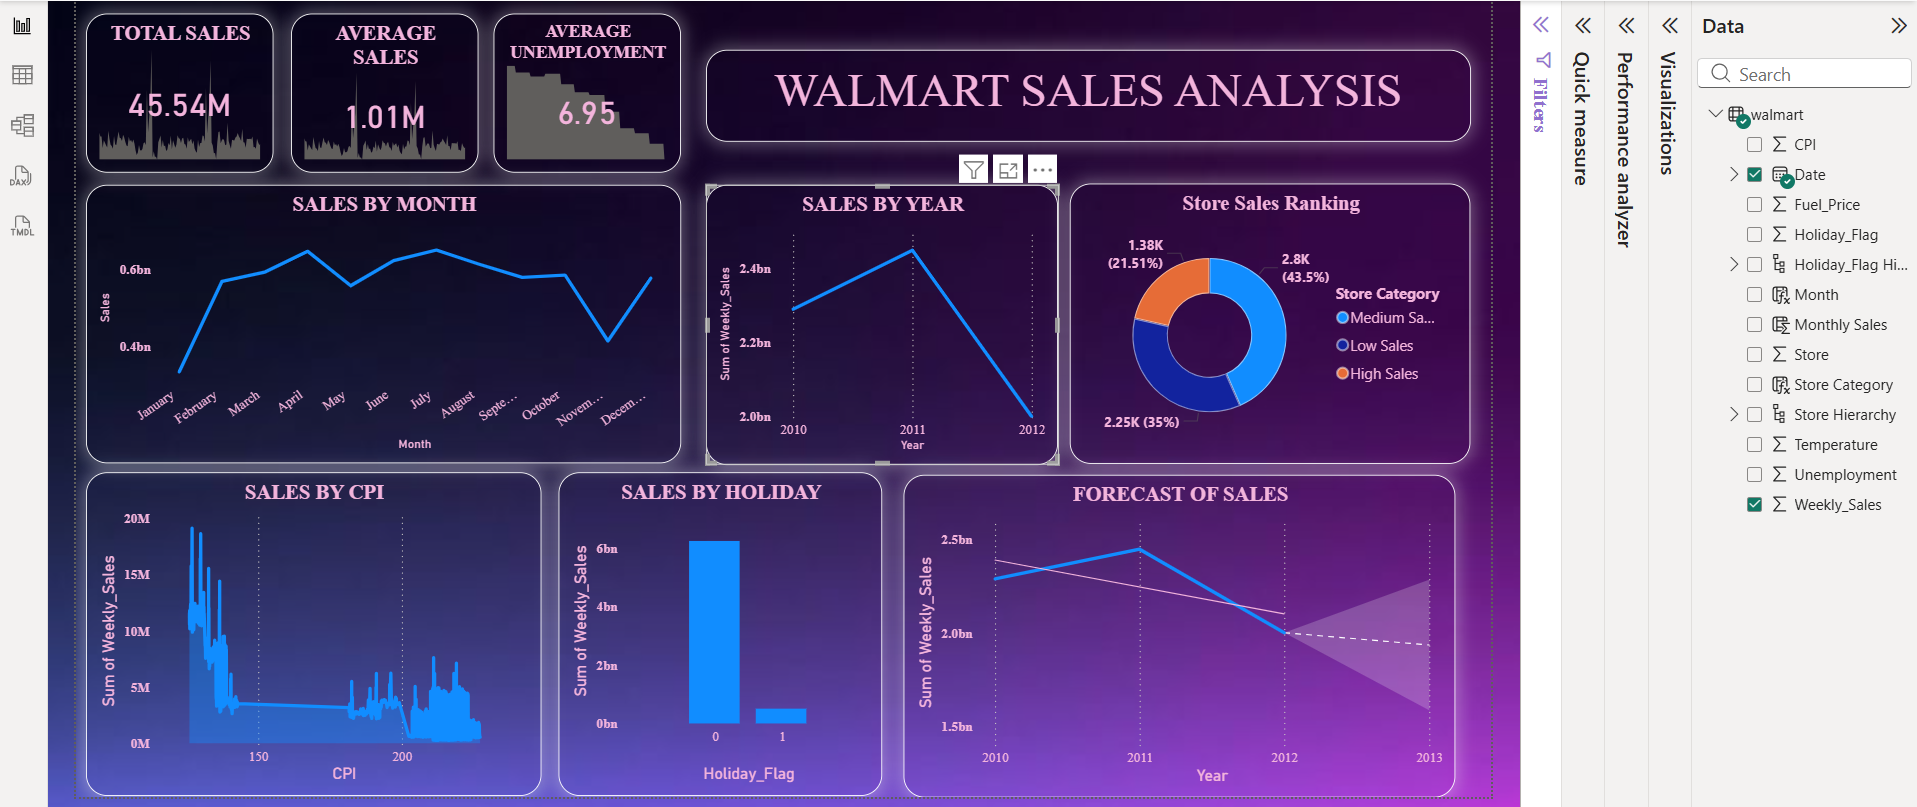

The dashboard page shown, as its layout file describes it:
{"tool":"powerbi","page":{"name":"Page 1","canvas":[1280,720],"ordinal":0},"visuals":[{"type":"lineChart","title":"SALES BY MONTH","fields":{"Y":["Sum(walmart.Weekly_Sales)"],"Category":["walmart.Date.Variation.Date Hierarchy.Month"]},"box":[9.3,166.3,538.4,252.3],"z":0},{"type":"columnChart","title":"SALES BY HOLIDAY","fields":{"Y":["Sum(walmart.Weekly_Sales)"],"Category":["walmart.Holiday_Flag","walmart.Holiday_Flag Hierarchy.Holiday_Flag"]},"box":[436,426.7,293,293],"z":1000},{"type":"kpi","title":"TOTAL SALES","fields":{"Indicator":["Sum(walmart.Weekly_Sales)"],"TrendLine":["walmart.Date"]},"box":[9.3,11.6,169.8,144.2],"z":2000},{"type":"kpi","title":"AVERAGE SALES","fields":{"Indicator":["Avg(walmart.Weekly_Sales)"],"TrendLine":["walmart.Date"]},"box":[194.2,11.6,169.8,144.2],"z":3000},{"type":"kpi","title":"AVERAGE UNEMPLOYMENT","fields":{"TrendLine":["walmart.Date"],"Indicator":["Avg(walmart.Unemployment)"]},"box":[377.9,11.6,169.8,144.2],"z":4000},{"type":"donutChart","title":"Store Sales Ranking","fields":{"Category":["walmart.Store Category"],"Y":["CountNonNull(walmart.Store Category)"]},"box":[898.8,165.1,362.8,253.5],"z":5000},{"type":"lineChart","title":"SALES BY YEAR","fields":{"Category":["walmart.Date.Variation.Date Hierarchy.Year"],"Y":["Sum(walmart.Weekly_Sales)"]},"box":[569.8,166.3,318.6,253.5],"z":6000},{"type":"stackedAreaChart","title":"SALES BY CPI","fields":{"Y":["Sum(walmart.Weekly_Sales)"],"Category":["walmart.CPI"]},"box":[9.3,426.7,411.6,293],"z":7000},{"type":"textbox","box":[570.4,44.4,691.6,82.9],"z":9000},{"type":"lineChart","title":"FORECAST OF SALES","fields":{"Category":["walmart.Date.Variation.Date Hierarchy.Year"],"Y":["Sum(walmart.Weekly_Sales)"]},"box":[748.1,428.7,499.5,291.8],"z":9001}]}

Visuals, with their boxes in screenshot pixels (x1, y1, x2, y2):
"SALES BY MONTH" lineChart: (left=46, top=181, right=664, bottom=471)
"SALES BY HOLIDAY" columnChart: (left=536, top=480, right=872, bottom=806)
"TOTAL SALES" kpi: (left=46, top=3, right=241, bottom=169)
"AVERAGE SALES" kpi: (left=258, top=3, right=453, bottom=169)
"AVERAGE UNEMPLOYMENT" kpi: (left=469, top=3, right=664, bottom=169)
"Store Sales Ranking" donutChart: (left=1067, top=180, right=1484, bottom=471)
"SALES BY YEAR" lineChart: (left=689, top=181, right=1055, bottom=472)
"SALES BY CPI" stackedAreaChart: (left=46, top=480, right=518, bottom=806)
textbox: (left=690, top=41, right=1484, bottom=136)
"FORECAST OF SALES" lineChart: (left=894, top=482, right=1468, bottom=806)
